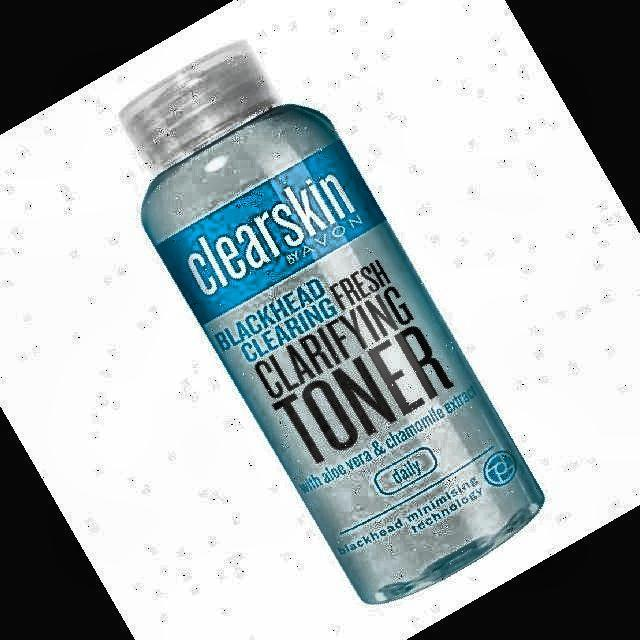plastic: (120, 41, 544, 604)
